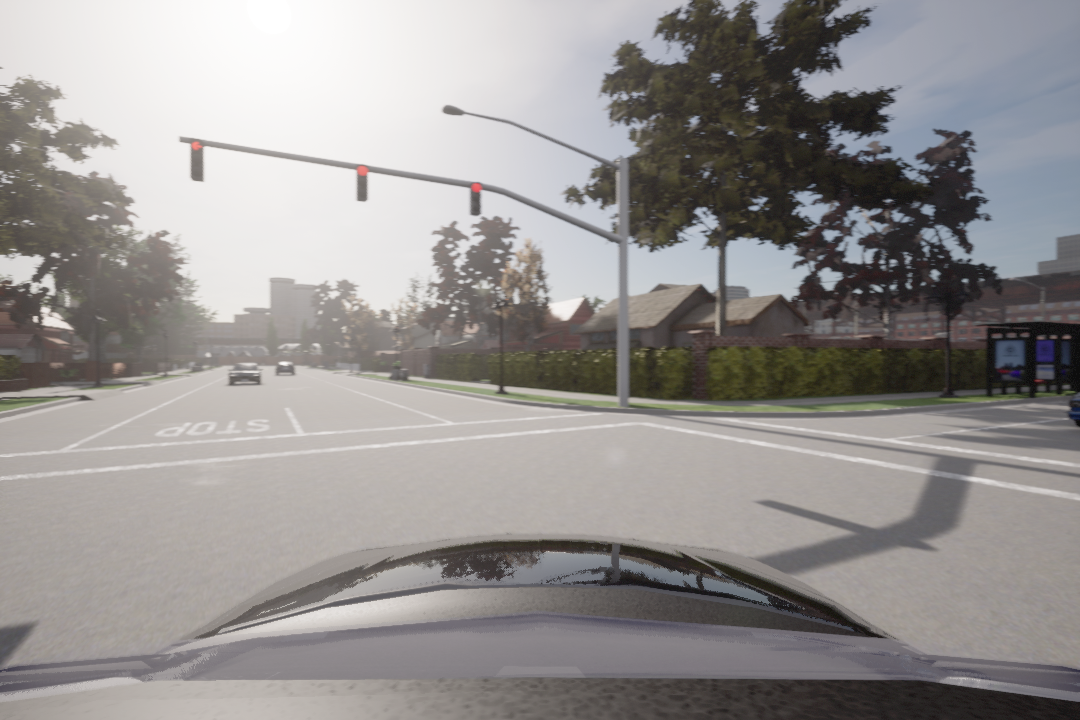TrafficLight: (183, 137, 208, 183), (354, 157, 369, 206), (470, 180, 484, 220)
